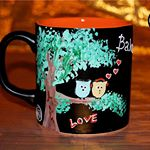cups: (1, 16, 135, 134)
